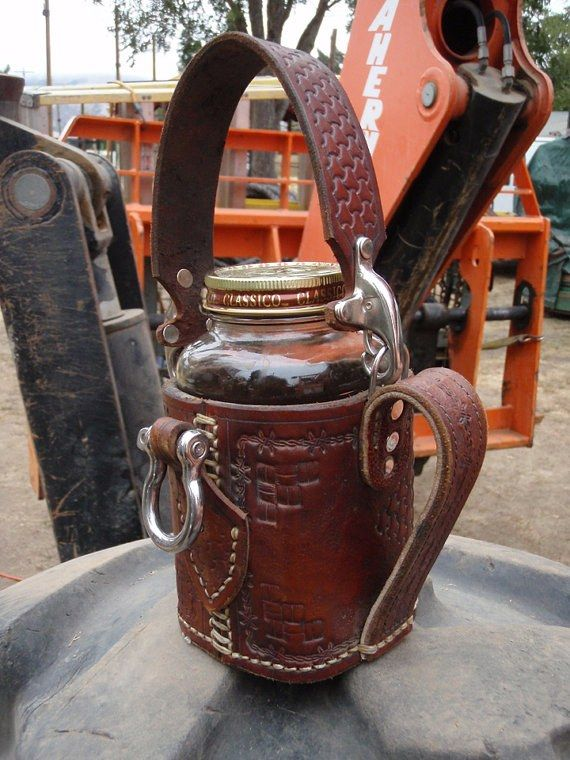cuero: (146, 32, 489, 686)
